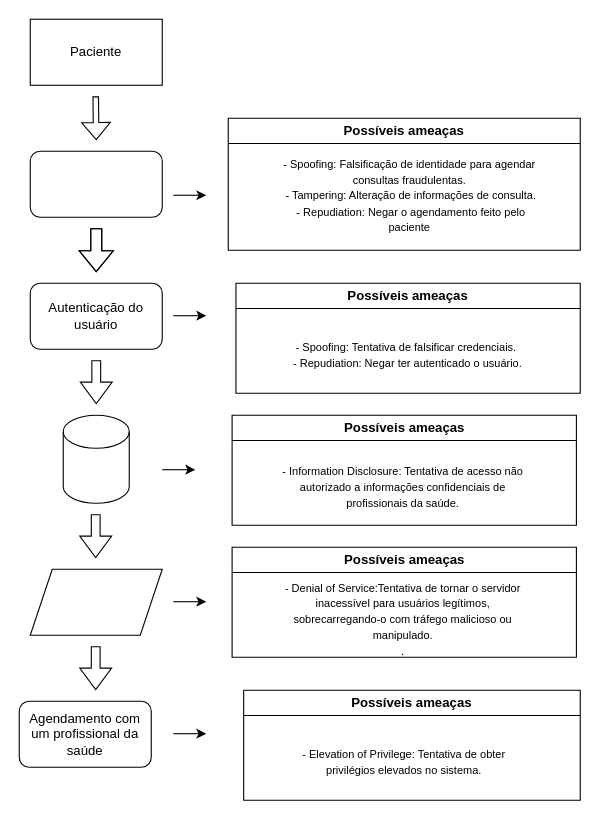
Some shapes in this 608 by 820 pixel diagram are drawn without their labels. The box of each missing label's shape, as (x1, y1, x2, y2) in pixels:
Angedamento de Consulta: (29, 150, 162, 217)
Banco de dados de profissionais: (62, 414, 129, 503)
Servidor: (29, 568, 162, 635)
